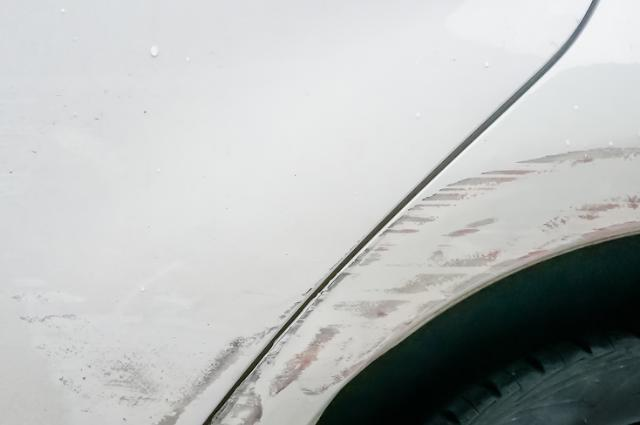Fender: (267, 131, 640, 416)
